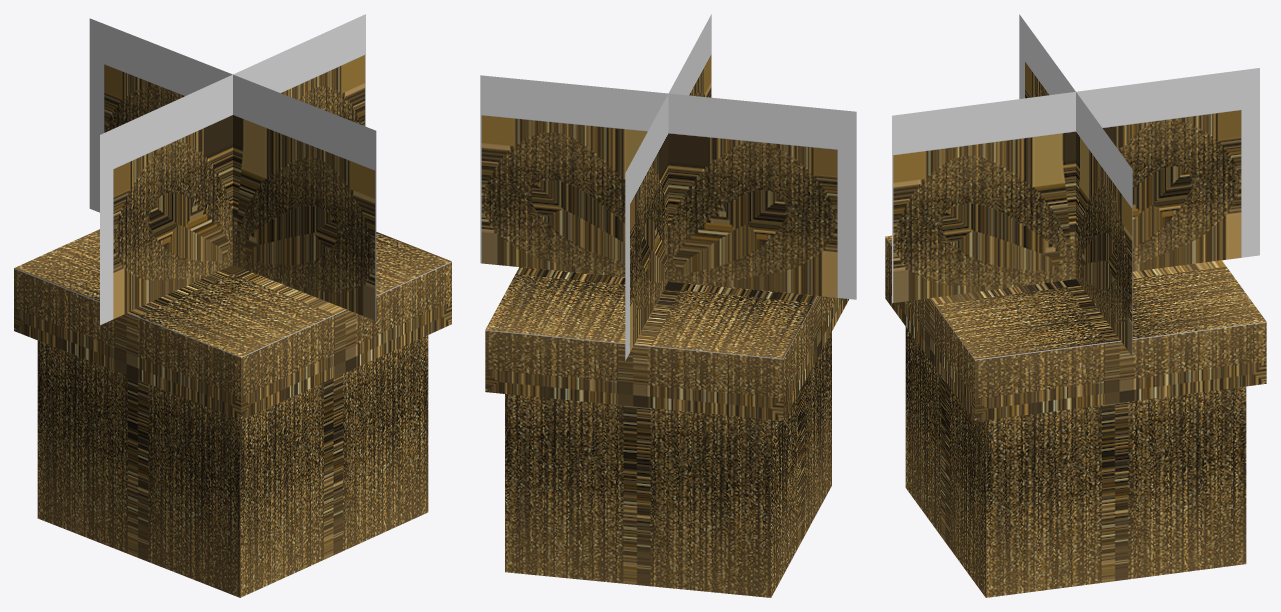
The model's file is Gift_gold.fbx.
3 renders of one model, left to right at view 1: azimuth 30°, elevation 25°; view 2: azimuth 150°, elevation 25°; view 3: azimuth 270°, elevation 25°, orthographic.
Visible parts, largest first — view 1: Gift_gold; view 2: Gift_gold; view 3: Gift_gold.
Part boxes in pixels (box(x1,y1,x2,y2)): Gift_gold: box(14, 14, 451, 597); Gift_gold: box(480, 14, 856, 597); Gift_gold: box(885, 14, 1266, 597).
Size of the model in its own units: 1.4 by 1.76 by 1.4.
Materials: 1 (1 with a texture image).
